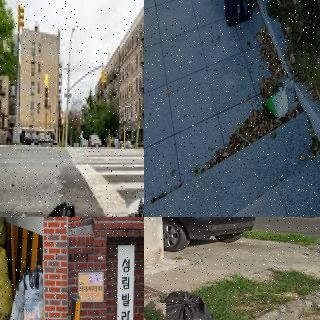Garbage: (158, 290, 215, 320), (260, 76, 296, 119), (23, 270, 48, 320), (9, 271, 30, 320)
